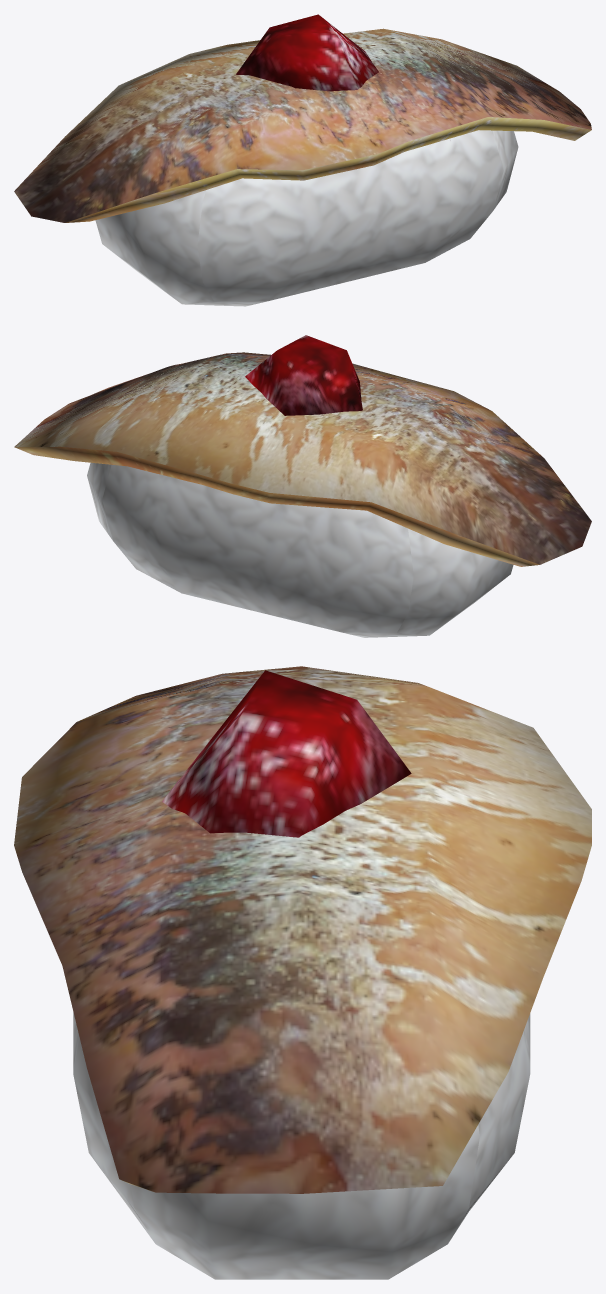
File: horse_mackerel_3.fbx
3 renders of one model, top to bottom at view 1: azimuth 30°, elevation 25°; view 2: azimuth 150°, elevation 25°; view 3: azimuth 270°, elevation 25°, orthographic. The views are drawn at different scales.
Parts seen in each view (by area): view 1: horse_mackerel_3; view 2: horse_mackerel_3; view 3: horse_mackerel_3.
Part boxes in pixels (box(x1,y1,x2,y2)): horse_mackerel_3: box(14, 14, 591, 306); horse_mackerel_3: box(14, 335, 591, 637); horse_mackerel_3: box(14, 666, 591, 1279).
Bounding box in the file's own units: 8.07 × 3.58 × 3.96.
